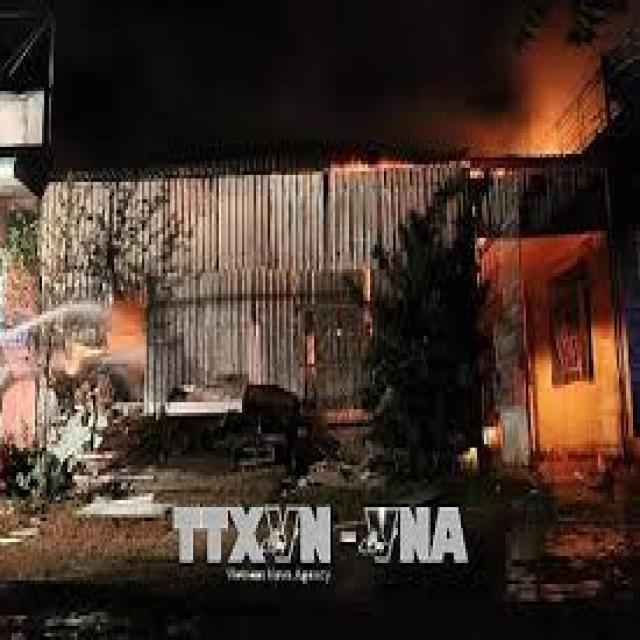Fire: (49, 270, 188, 434), (418, 114, 592, 160), (246, 152, 432, 181)
